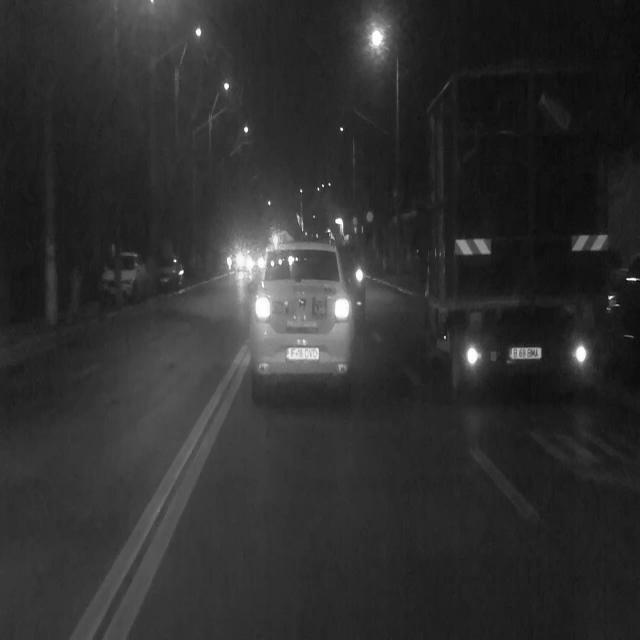licenseplate: (285, 344, 321, 362), (508, 345, 543, 361)
